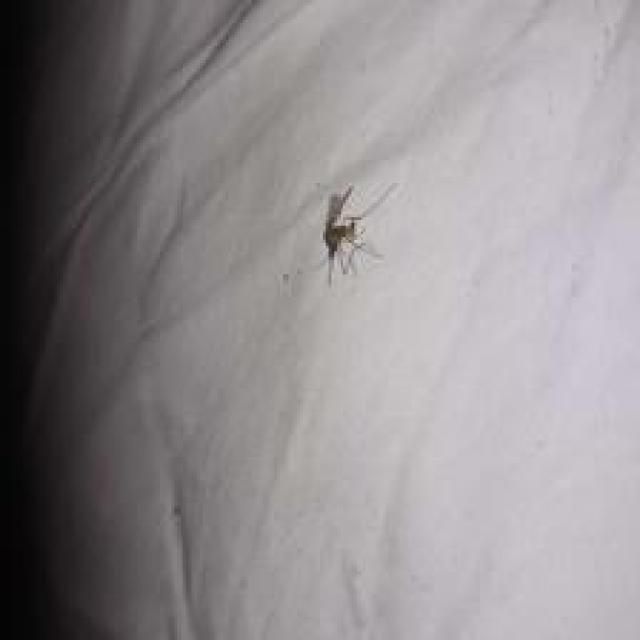Culex: (318, 180, 398, 286)
